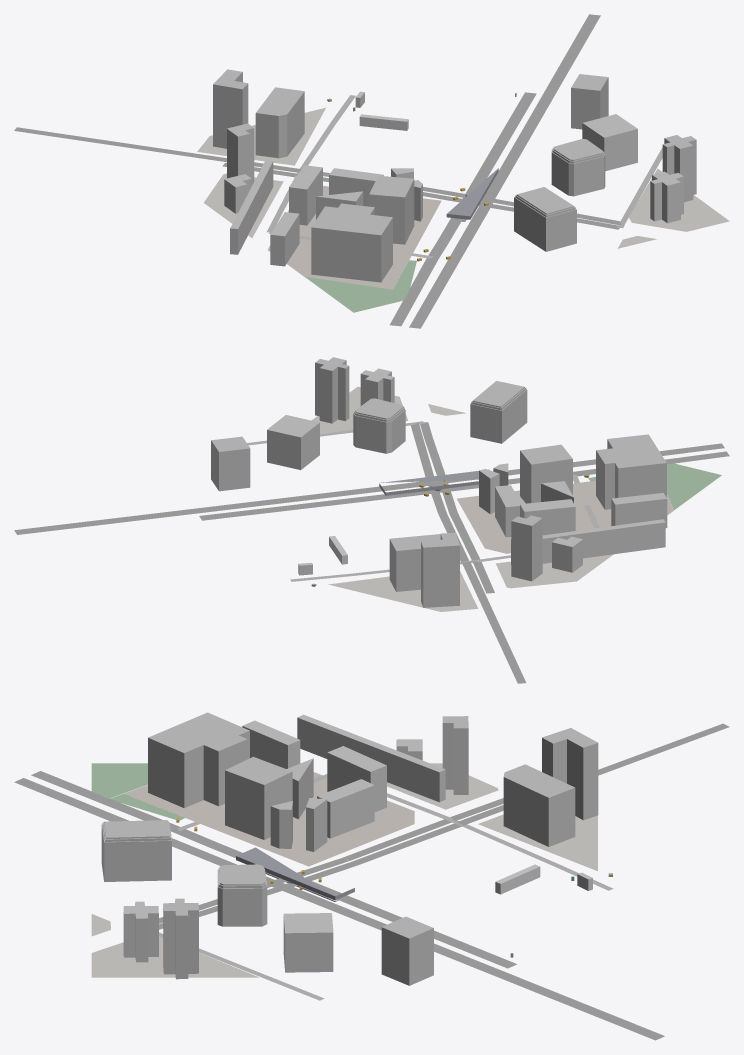
3 renders of one model, top to bottom at view 1: azimuth 30°, elevation 25°; view 2: azimuth 150°, elevation 25°; view 3: azimuth 270°, elevation 25°, orthographic. The views are drawn at different scales.
Bounding box in the file's own units: 742 × 80.68 × 707.
